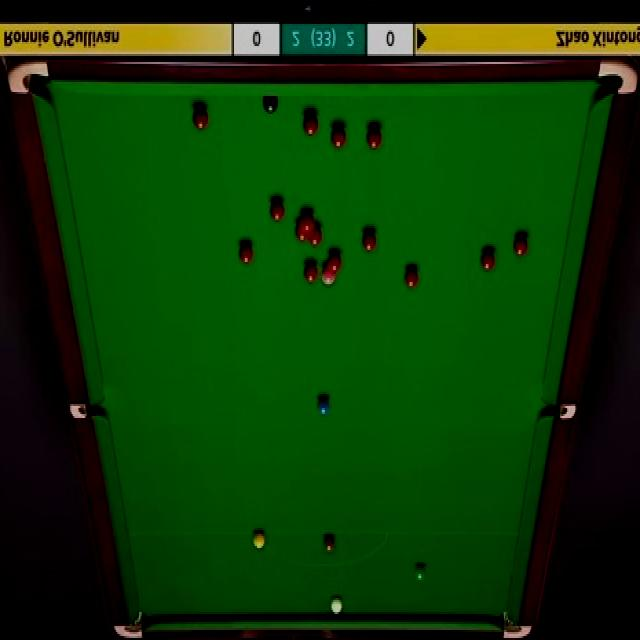black-ball: (262, 98, 278, 114)
blue-ball: (316, 396, 329, 417)
brown-ball: (322, 534, 336, 553)
green-ball: (415, 565, 426, 584)
pink-ball: (321, 263, 336, 287)
red-ball: (478, 248, 496, 273), (330, 123, 347, 149), (513, 230, 530, 256), (237, 242, 254, 267), (192, 107, 209, 132), (300, 206, 315, 234), (268, 198, 284, 224), (302, 112, 318, 138), (306, 224, 323, 248), (362, 230, 377, 254), (304, 259, 318, 284), (404, 268, 420, 288), (367, 128, 382, 149), (296, 219, 309, 242), (328, 252, 342, 270)
white-ball: (329, 596, 344, 615)
yellow-ball: (250, 530, 266, 550)
